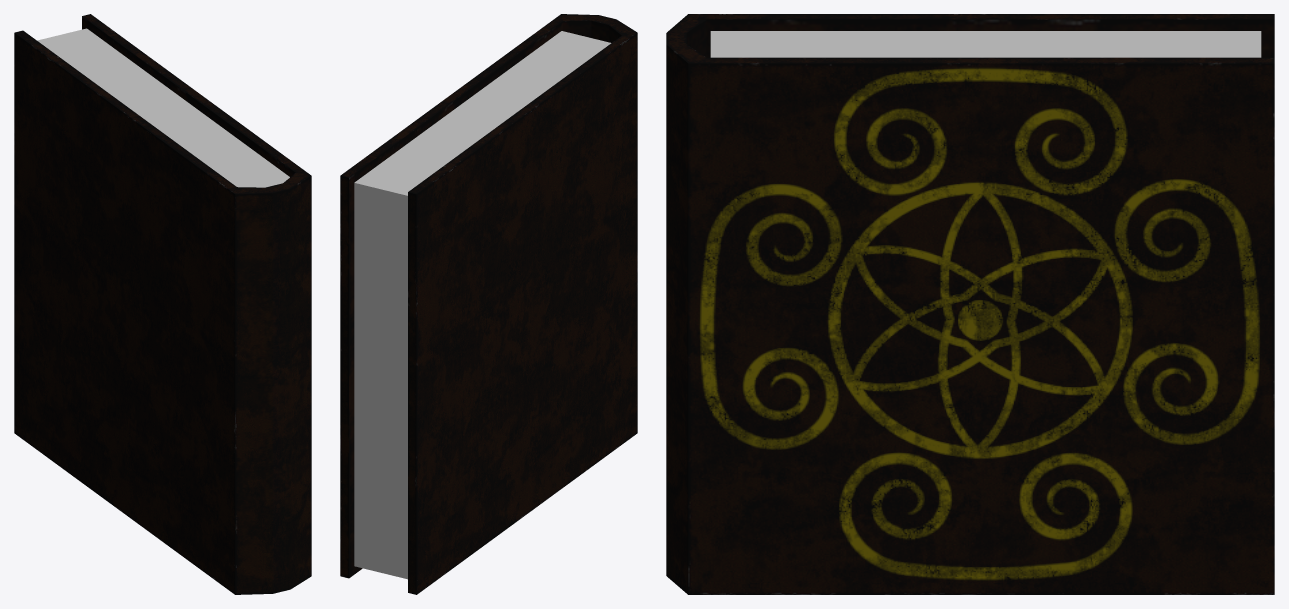
File: Libro_Cv2 1.fbx
3 views of the same model, side by side, from view 1: azimuth 30°, elevation 25°; view 2: azimuth 150°, elevation 25°; view 3: azimuth 270°, elevation 25° (orthographic). The views are drawn at different scales.
Parts seen in each view (by area): view 1: Libro_C_geo, Hoja_C; view 2: Libro_C_geo, Hoja_C; view 3: Libro_C_geo, Hoja_C.
Part boxes in pixels (box(x1,y1,x2,y2)): Libro_C_geo: box(14, 14, 311, 594); Hoja_C: box(37, 28, 289, 187); Libro_C_geo: box(340, 14, 637, 594); Hoja_C: box(354, 31, 611, 579); Libro_C_geo: box(666, 14, 1274, 594); Hoja_C: box(710, 31, 1261, 57).
Bounding box in the file's own units: 4.69 × 23.5 × 24.38.
Materials: 1 (1 with a texture image).
